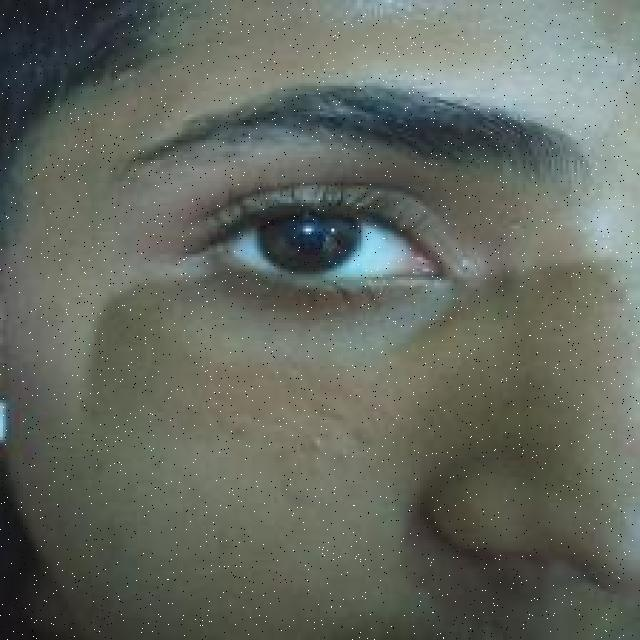Normal: (118, 128, 504, 346)
